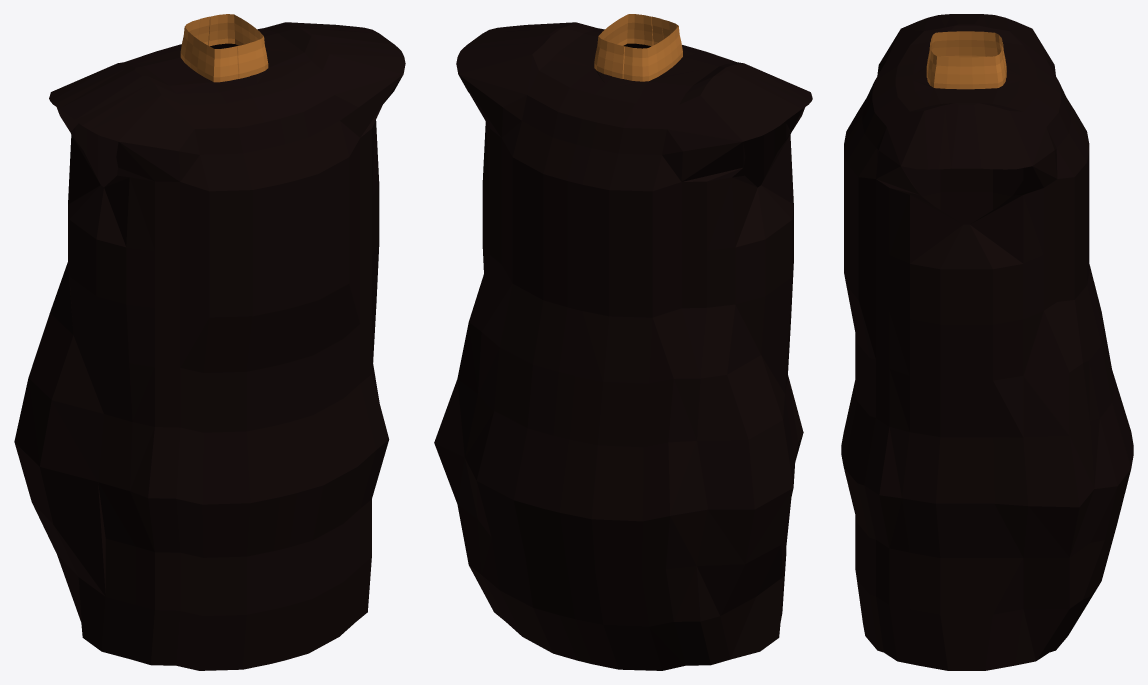
Rendered from C_body.obj.
3 renders of one model, left to right at view 1: azimuth 30°, elevation 25°; view 2: azimuth 150°, elevation 25°; view 3: azimuth 270°, elevation 25°, orthographic. The views are drawn at different scales.
Visible parts, largest first — view 1: Plane; view 2: Plane; view 3: Plane.
Boxes of the visible parts, x1,y1,x2,y2 form: Plane: [14, 14, 405, 670]; Plane: [434, 14, 812, 670]; Plane: [841, 14, 1133, 670].
Bounding box in the file's own units: 0.4004 × 0.6796 × 0.3127.
